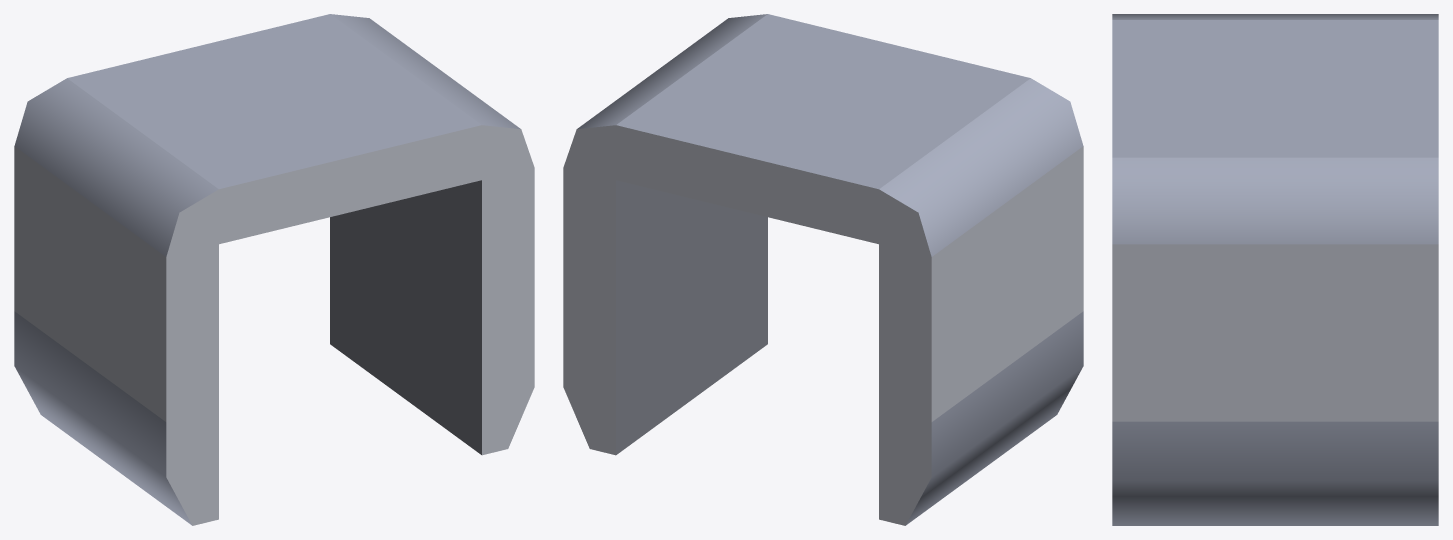
Rendered from cover.fbx.
The picture shows the model from 3 angles, left to right: view 1: azimuth 30°, elevation 25°; view 2: azimuth 150°, elevation 25°; view 3: azimuth 270°, elevation 25°; orthographic projection. The views are drawn at different scales.
Visible parts, largest first — view 1: cover; view 2: cover; view 3: cover.
Boxes of the visible parts, x1,y1,x2,y2 form: cover: (14,14,534,525); cover: (563,14,1083,525); cover: (1112,14,1438,525).
Size of the model in its own units: 140 by 120 by 100.
